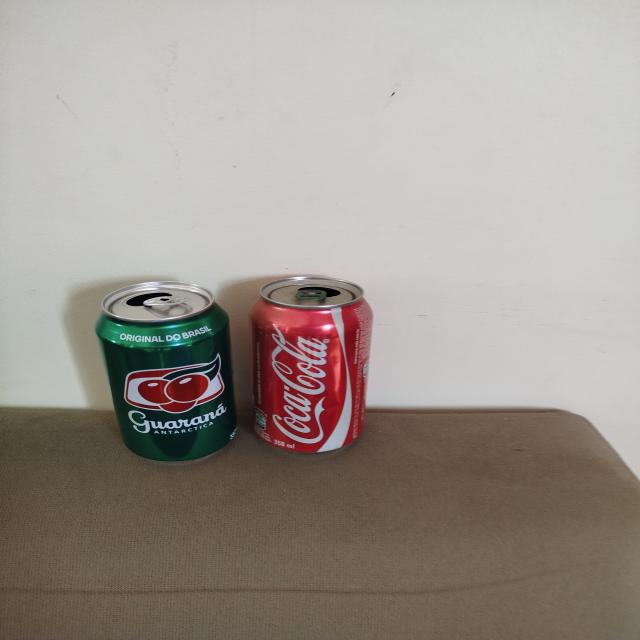Coca Cola: (250, 275, 372, 453)
Guarana: (95, 281, 238, 461)
